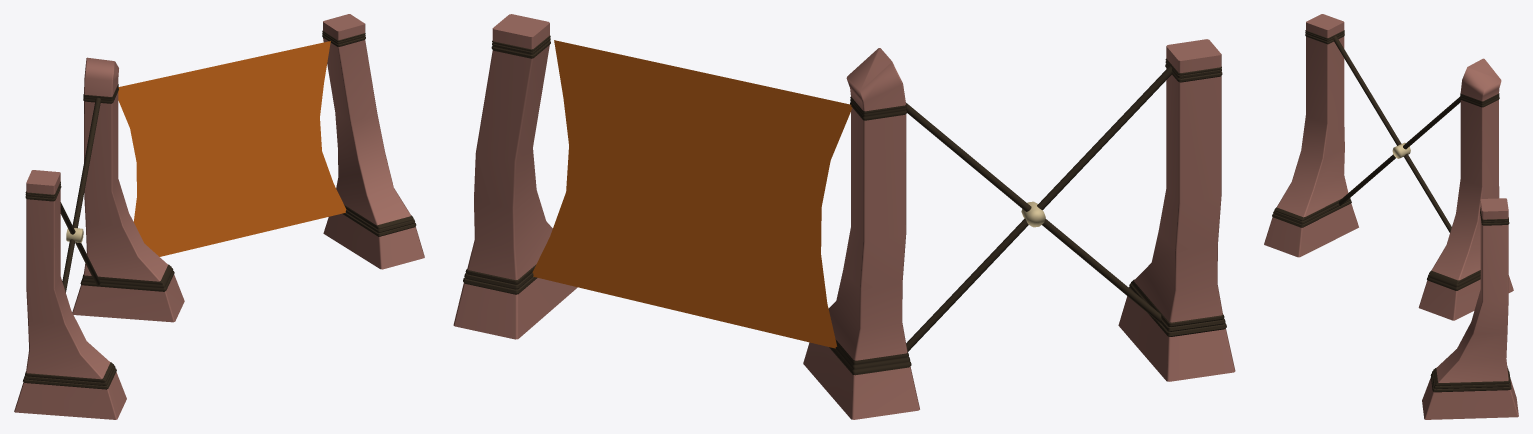
The model's file is SM_colonne-teloarancio.fbx.
3 views of the same model, side by side, from view 1: azimuth 30°, elevation 25°; view 2: azimuth 150°, elevation 25°; view 3: azimuth 270°, elevation 25° (orthographic). The views are drawn at different scales.
Visible parts, largest first — view 1: pPlane10; view 2: pPlane10; view 3: pPlane10.
Boxes of the visible parts, x1,y1,x2,y2 form: pPlane10: (14,14,424,419); pPlane10: (453,14,1235,419); pPlane10: (1264,14,1518,419).
Size of the model in its own units: 1255 by 645 by 657.
